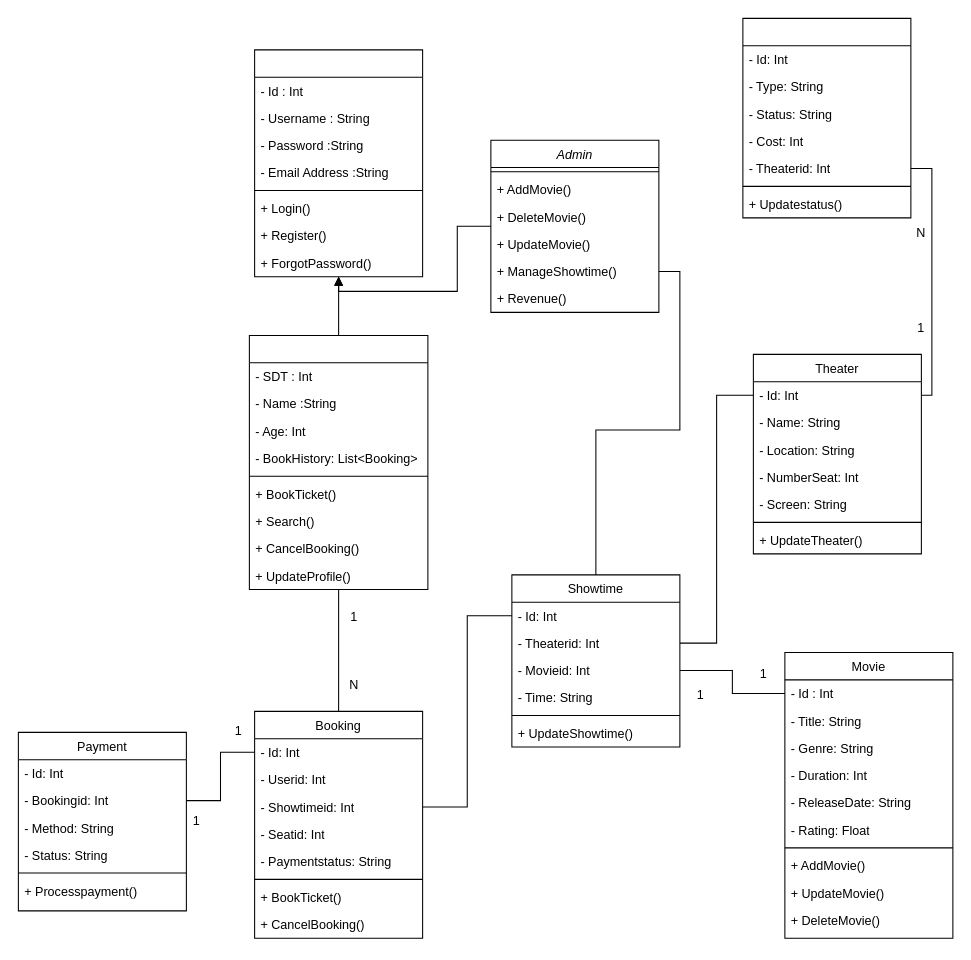
Some shapes in this 971 by 960 pixel diagram are drawn without their labels. Each missing label, with the box of its shape:
Account: (254, 49, 423, 277)
Seat: (742, 17, 911, 218)
User: (248, 334, 428, 590)
